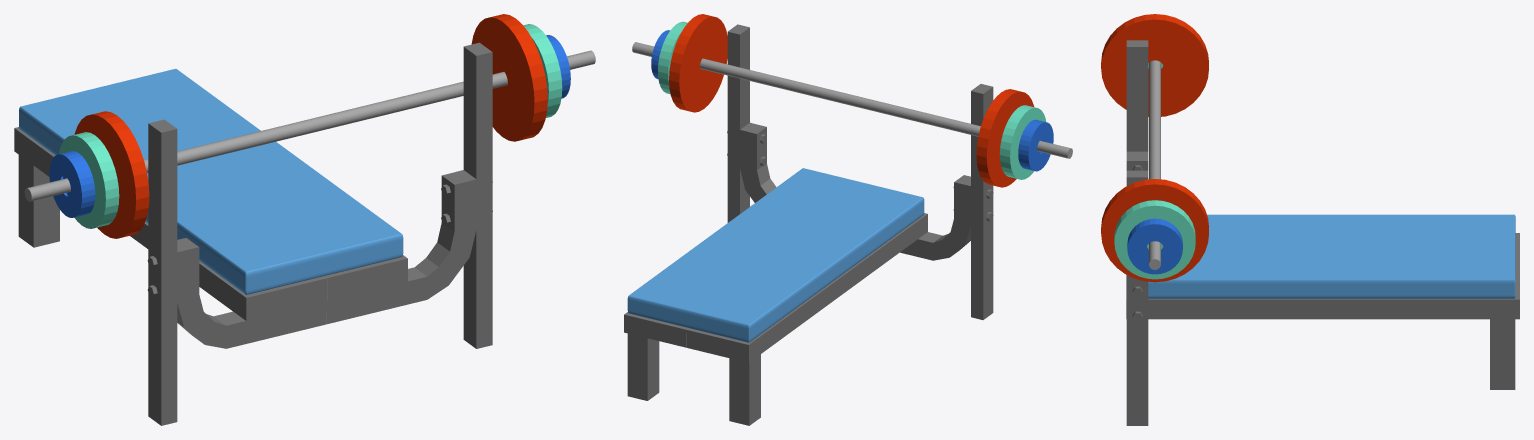
The model's file is benchpress.fbx.
3 renders of one model, left to right at view 1: azimuth 30°, elevation 25°; view 2: azimuth 150°, elevation 25°; view 3: azimuth 270°, elevation 25°, orthographic. The views are drawn at different scales.
Parts seen in each view (by area): view 1: benchpress1, benchpress; view 2: benchpress1, benchpress; view 3: benchpress1, benchpress.
Part boxes in pixels (box(x1,y1,x2,y2)): benchpress1: box(14, 42, 492, 425); benchpress: box(24, 14, 595, 238); benchpress1: box(624, 24, 993, 425); benchpress: box(632, 14, 1072, 187); benchpress1: box(1126, 40, 1519, 425); benchpress: box(1101, 14, 1208, 282).
Size of the model in its own units: 713 by 368 by 540.
